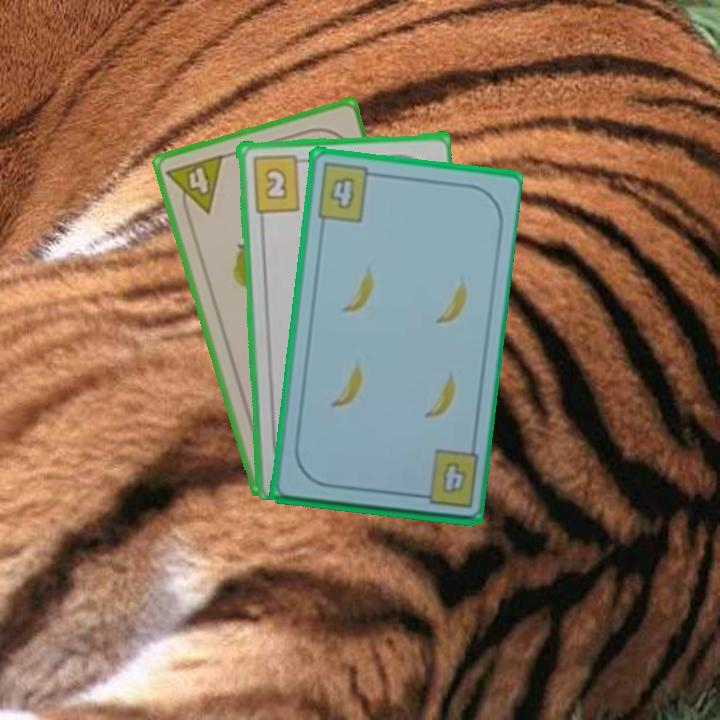2b: (248, 151, 310, 214)
4b: (410, 446, 481, 511), (313, 159, 381, 225)
4p: (163, 150, 227, 222)
